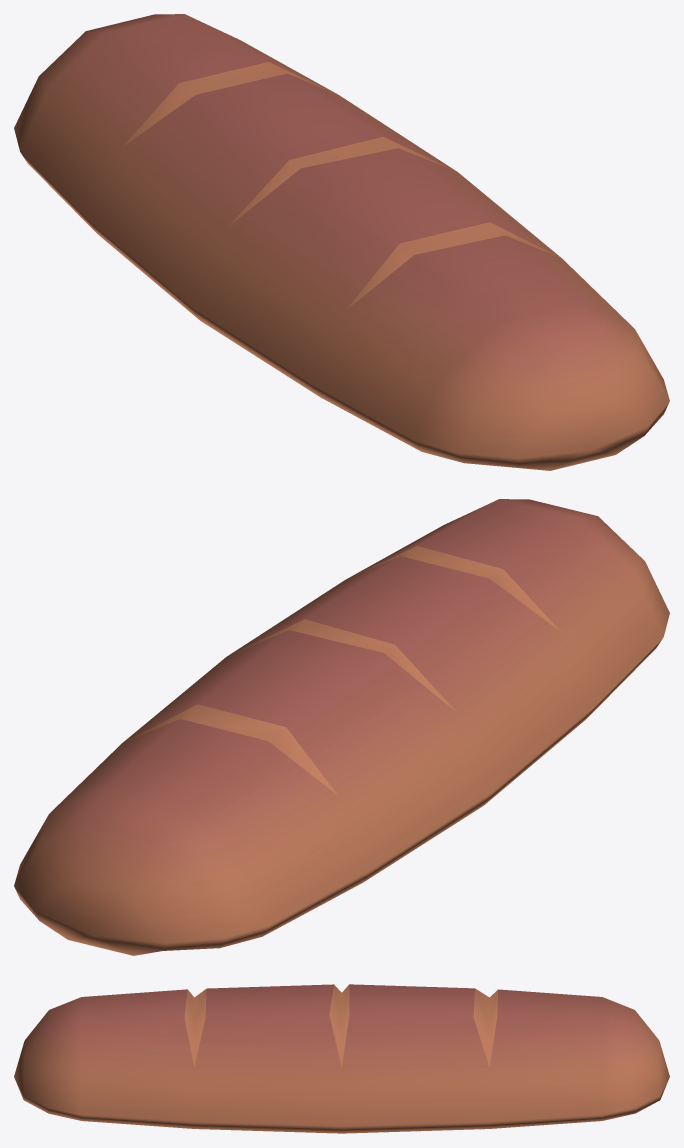
Rendered from Baguette.fbx.
The picture shows the model from 3 angles, top to bottom: view 1: azimuth 30°, elevation 25°; view 2: azimuth 150°, elevation 25°; view 3: azimuth 270°, elevation 25°; orthographic projection. The views are drawn at different scales.
Visible parts, largest first — view 1: Baguette; view 2: Baguette; view 3: Baguette.
Boxes of the visible parts, box(x1,y1,x2,y2) form: Baguette: box(14, 14, 669, 470); Baguette: box(14, 499, 669, 955); Baguette: box(14, 984, 669, 1133).
Bounding box in the file's own units: 25.32 × 11.59 × 72.13.
